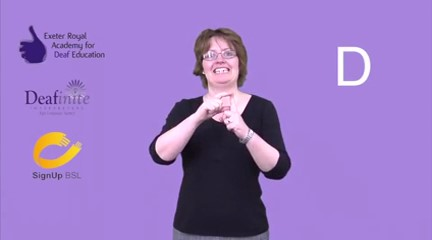D: (197, 88, 252, 142)
